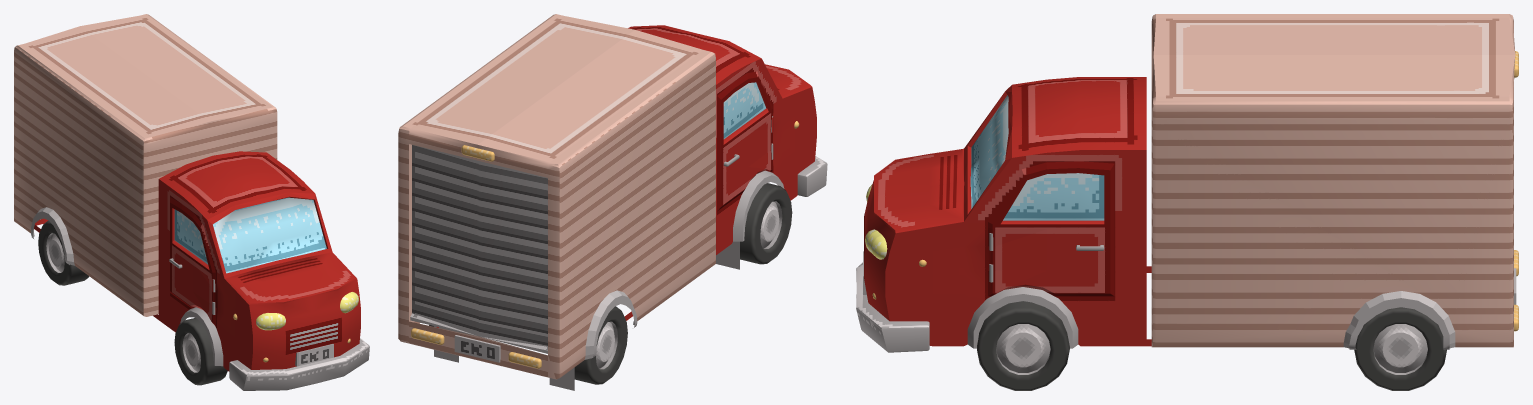
Rendered from Truck Whole.fbx.
3 views of the same model, side by side, from view 1: azimuth 30°, elevation 25°; view 2: azimuth 150°, elevation 25°; view 3: azimuth 270°, elevation 25° (orthographic). The views are drawn at different scales.
Visible parts, largest first — view 1: Truck; view 2: Truck; view 3: Truck.
Boxes of the visible parts, bbox=[...] form: Truck: bbox=[14, 14, 369, 390]; Truck: bbox=[398, 14, 827, 390]; Truck: bbox=[856, 14, 1518, 390].
Bounding box in the file's own units: 77.14 × 107 × 220.
Materials: 6 (5 with a texture image).
